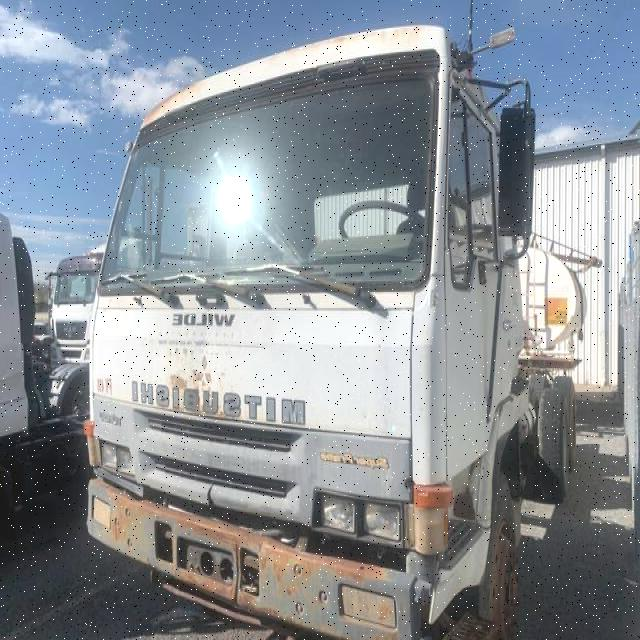truck: (84, 19, 580, 638)
